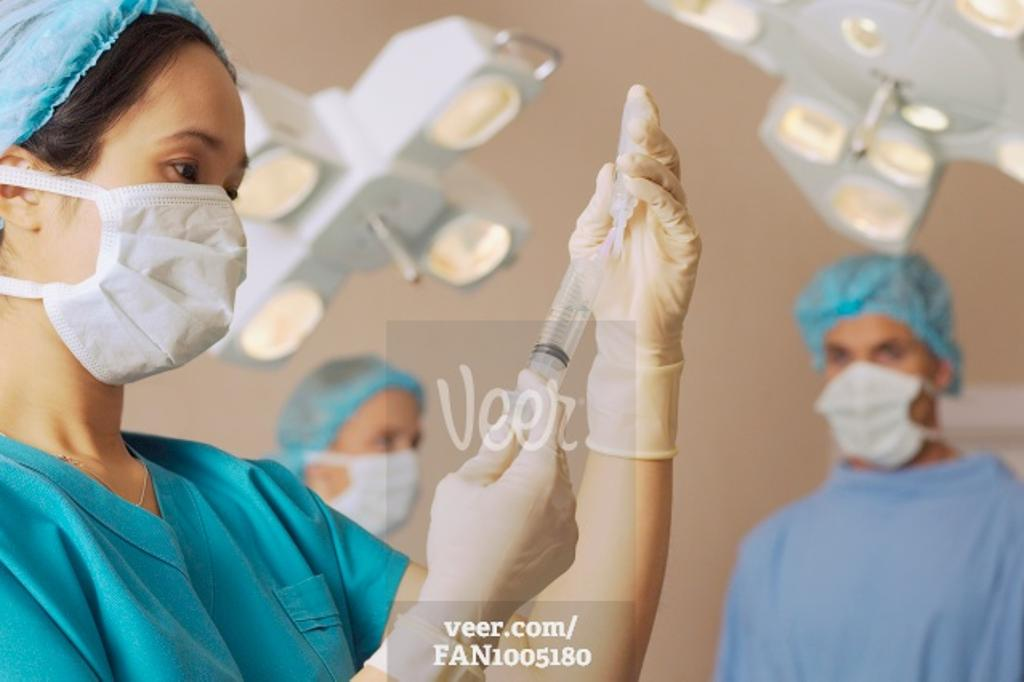face_mask: (46, 44, 248, 370), (824, 304, 930, 458), (328, 394, 426, 526)
